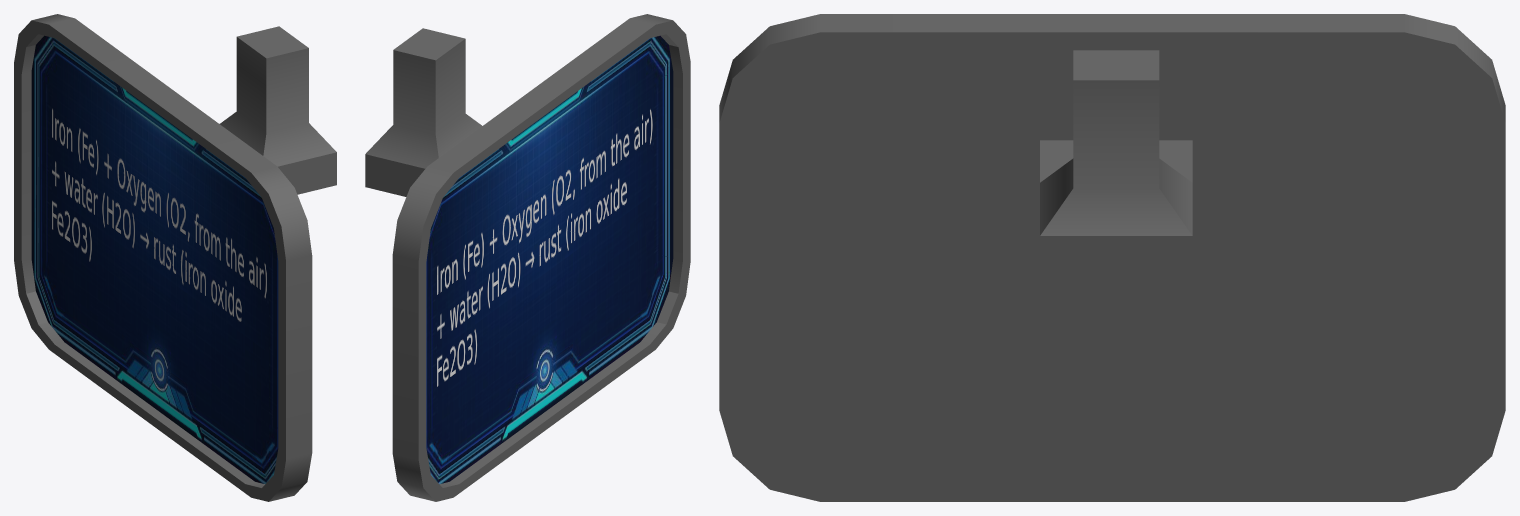
The model's file is scereen.fbx.
The picture shows the model from 3 angles, left to right: view 1: azimuth 30°, elevation 25°; view 2: azimuth 150°, elevation 25°; view 3: azimuth 270°, elevation 25°; orthographic projection. The views are drawn at different scales.
Visible parts, largest first — view 1: polySurface2, polySurface1, pCube3; view 2: polySurface2, polySurface1, pCube3; view 3: polySurface1, pCube3.
Boxes of the visible parts, bbox=[...] form: polySurface2: bbox=[31, 35, 278, 484]; polySurface1: bbox=[14, 14, 312, 501]; pCube3: bbox=[220, 26, 336, 194]; polySurface2: bbox=[426, 35, 673, 484]; polySurface1: bbox=[392, 14, 690, 501]; pCube3: bbox=[365, 28, 481, 196]; polySurface1: bbox=[719, 14, 1505, 501]; pCube3: bbox=[1040, 50, 1192, 283].
Bounding box in the file's own units: 34.33 × 70.97 × 100.
2 materials, 1 textured.
